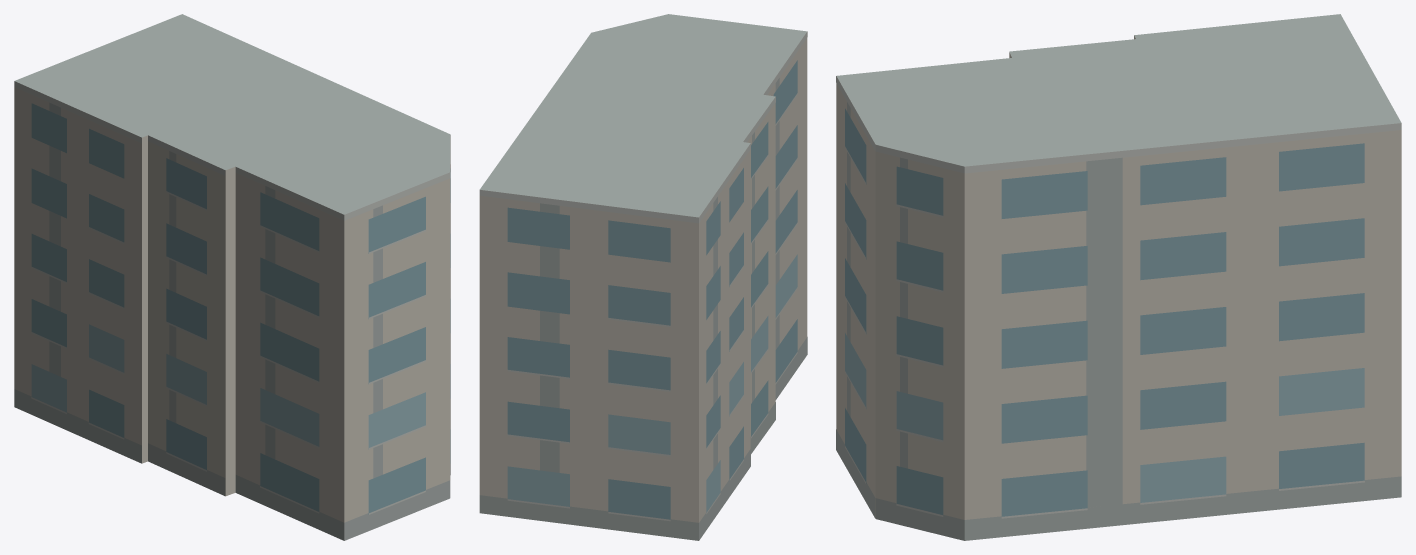
The model's file is survey-upis-32945510.glb.
3 views of the same model, side by side, from view 1: azimuth 30°, elevation 25°; view 2: azimuth 150°, elevation 25°; view 3: azimuth 270°, elevation 25° (orthographic). The views are drawn at different scales.
Visible parts, largest first — view 1: survey-upis-32945510.tmp; view 2: survey-upis-32945510.tmp; view 3: survey-upis-32945510.tmp.
Part boxes in pixels (x1=…): survey-upis-32945510.tmp: x1=14, y1=14, x2=450, y2=540; survey-upis-32945510.tmp: x1=479, y1=14, x2=807, y2=540; survey-upis-32945510.tmp: x1=836, y1=14, x2=1401, y2=540.
Size of the model in its own units: 11.64 by 13.3 by 18.22.
